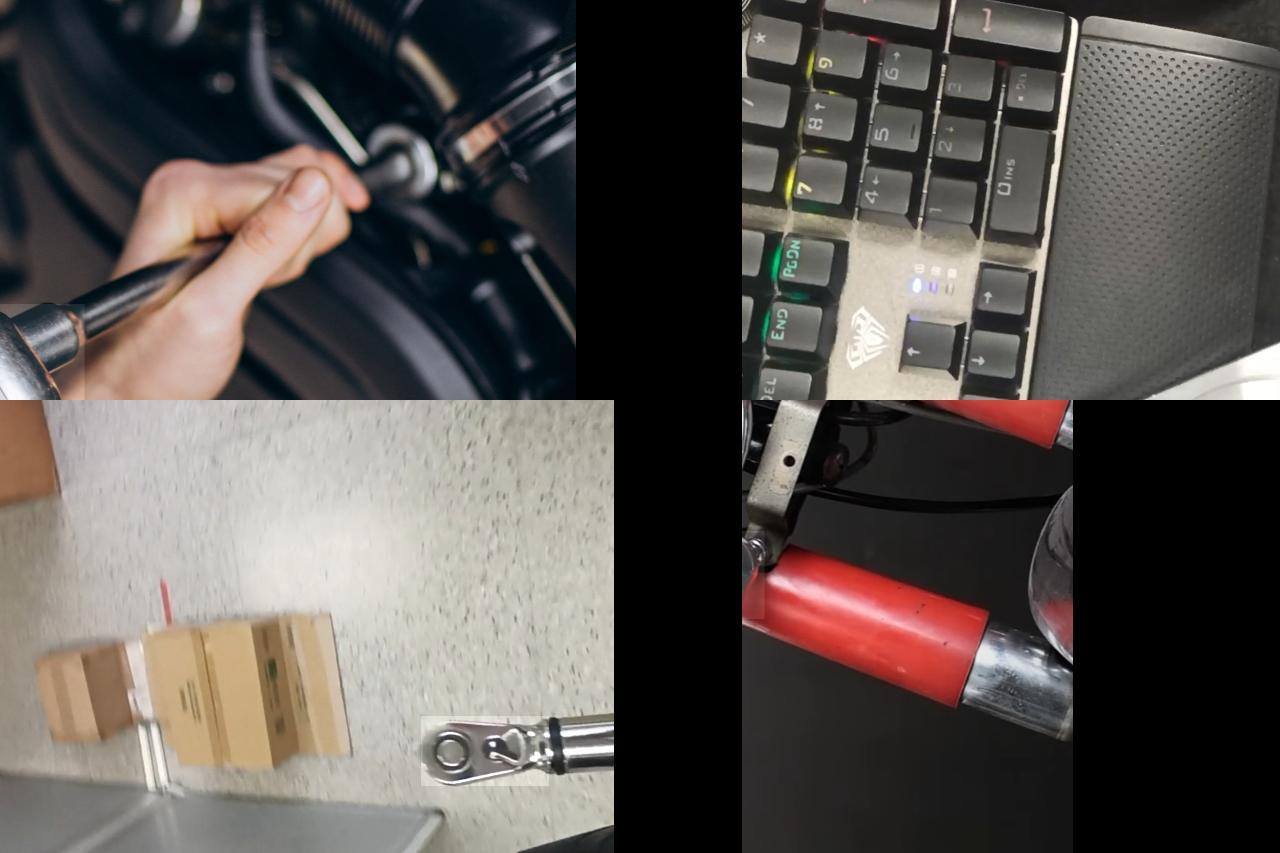Tool: (420, 716, 548, 786), (0, 303, 84, 400), (742, 530, 764, 618)
